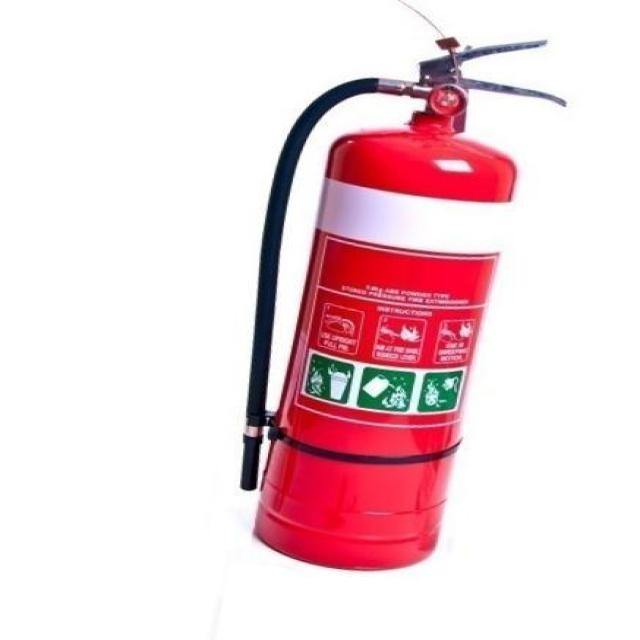fire_extinguisher: (232, 34, 568, 576)
